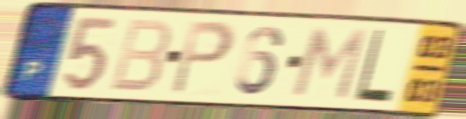5: (58, 15, 123, 93)
6: (236, 24, 286, 97)
B: (107, 17, 174, 95)
L: (352, 26, 395, 105)
M: (288, 25, 370, 102)
P: (167, 19, 237, 98)
